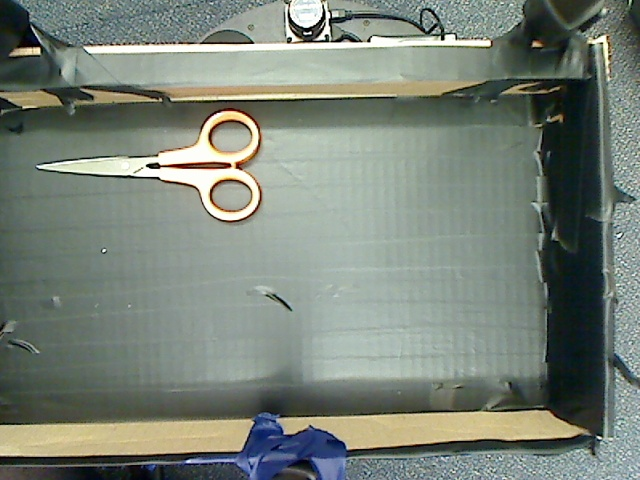scissors: (17, 101, 281, 230)
